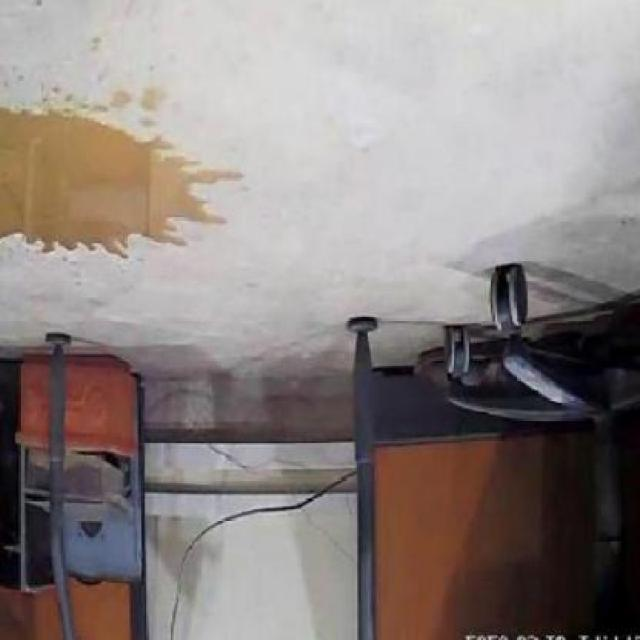spillage: (0, 105, 216, 256)
